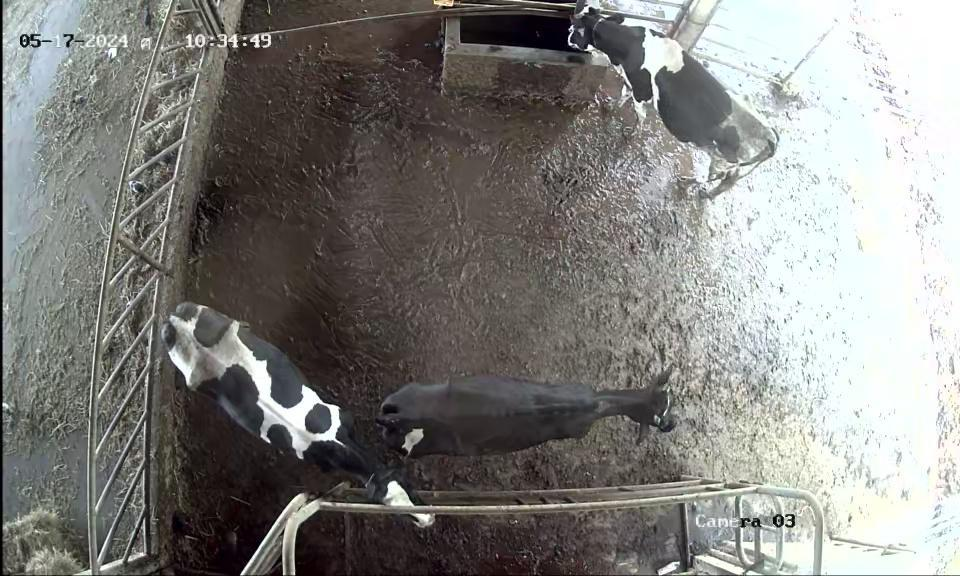drink: (550, 0, 643, 110)
stand: (159, 289, 444, 541), (363, 302, 709, 477)
